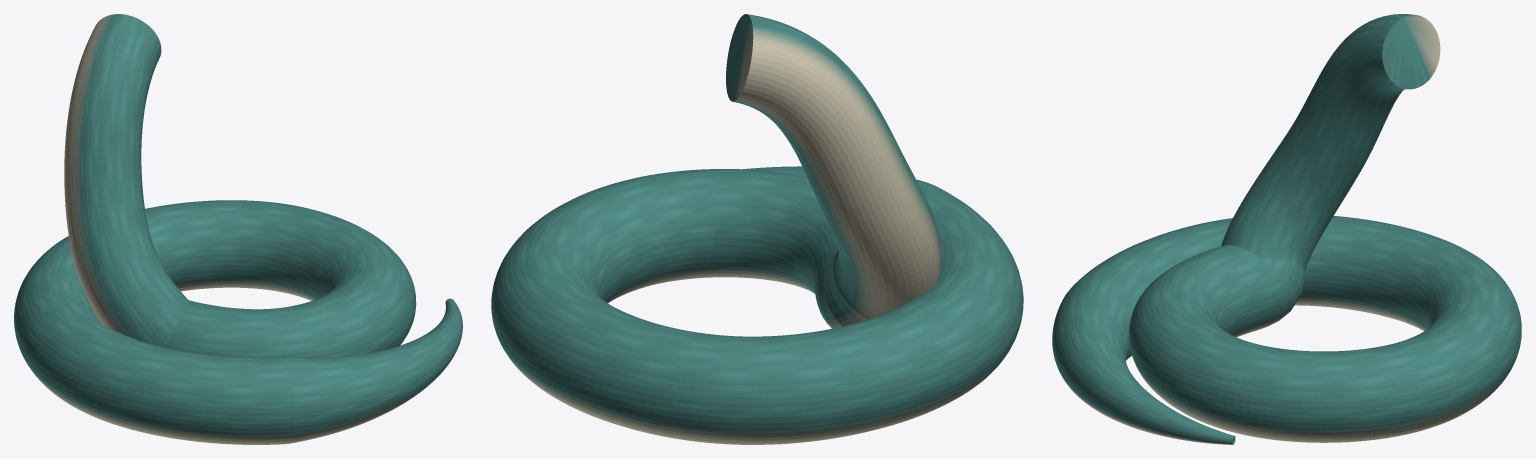
Rendered from coiled_skin.glb.
3 views of the same model, side by side, from view 1: azimuth 30°, elevation 25°; view 2: azimuth 150°, elevation 25°; view 3: azimuth 270°, elevation 25° (orthographic). The views are drawn at different scales.
Visible parts, largest first — view 1: coiled_body; view 2: coiled_body; view 3: coiled_body.
Boxes of the visible parts, x1=… form: coiled_body: x1=14, y1=14, x2=462, y2=444; coiled_body: x1=491, y1=14, x2=1023, y2=444; coiled_body: x1=1052, y1=14, x2=1521, y2=444.
Bounding box in the file's own units: 1.57 × 1.26 × 1.59.
